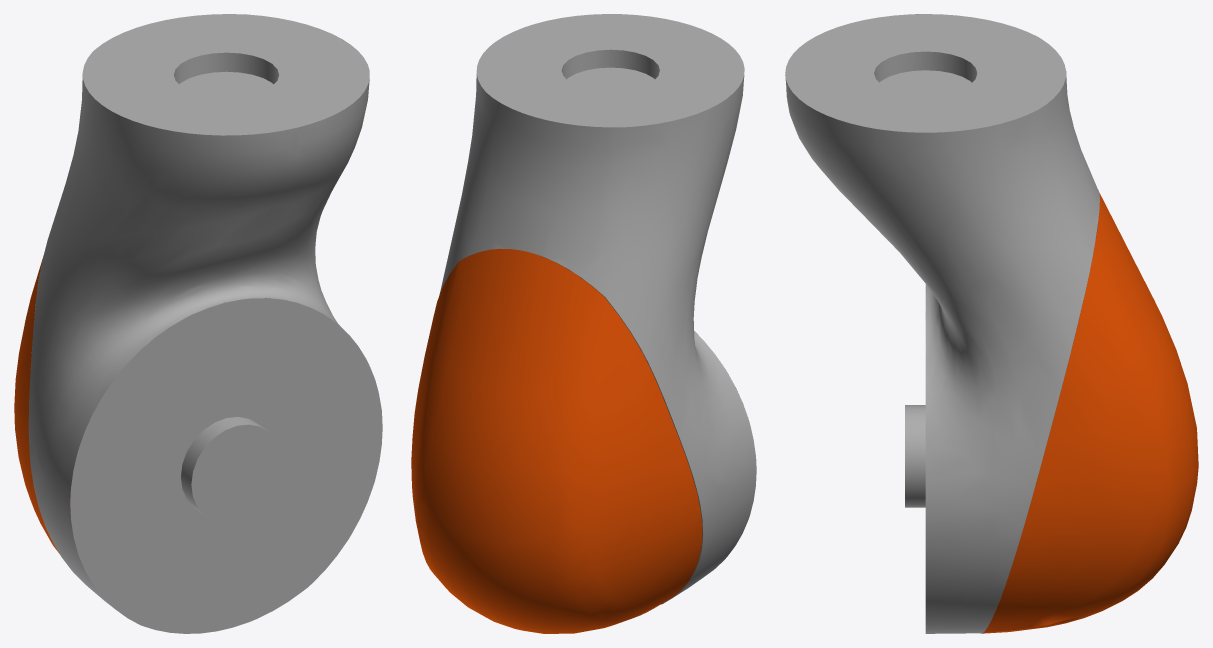
The picture shows the model from 3 angles, left to right: view 1: azimuth 30°, elevation 25°; view 2: azimuth 150°, elevation 25°; view 3: azimuth 270°, elevation 25°; orthographic projection. The views are drawn at different scales.
Visible parts, largest first — view 1: ShapeIndexedFaceSet; view 2: ShapeIndexedFaceSet; view 3: ShapeIndexedFaceSet.
Boxes of the visible parts, bbox=[...] form: ShapeIndexedFaceSet: bbox=[14, 14, 382, 633]; ShapeIndexedFaceSet: bbox=[411, 14, 756, 633]; ShapeIndexedFaceSet: bbox=[785, 14, 1198, 633].
Bounding box in the file's own units: 0.171 × 0.2001 × 0.2899.
